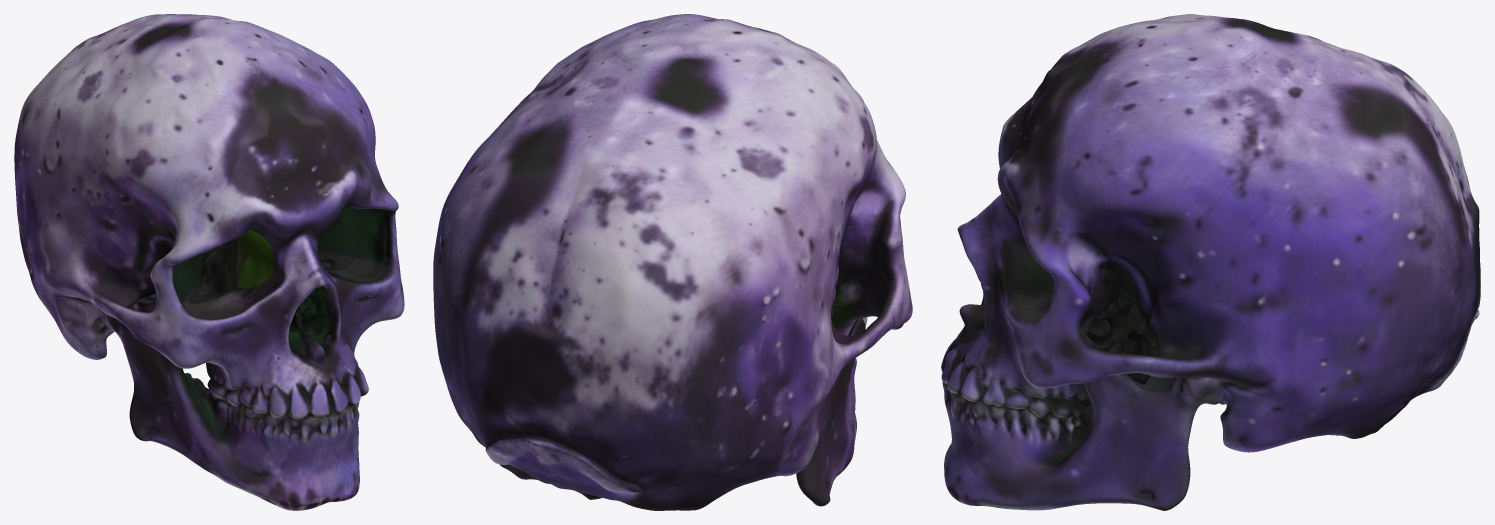
The model's file is skull-draco.glb.
3 views of the same model, side by side, from view 1: azimuth 30°, elevation 25°; view 2: azimuth 150°, elevation 25°; view 3: azimuth 270°, elevation 25° (orthographic). The views are drawn at different scales.
Bounding box in the file's own units: 1.42 × 1.89 × 2.
Materials: 1 (1 with a texture image).
